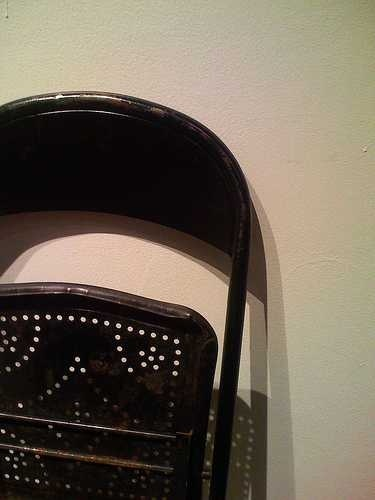obstacle: (1, 92, 266, 499)
